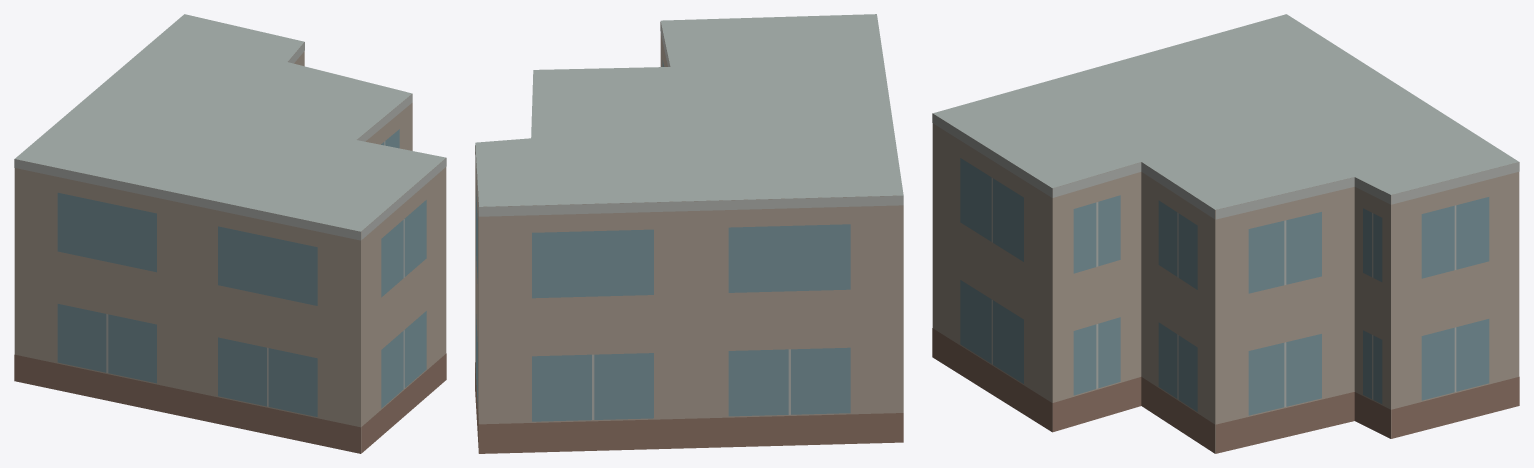
File: survey-upis-32489428.glb
3 renders of one model, left to right at view 1: azimuth 30°, elevation 25°; view 2: azimuth 150°, elevation 25°; view 3: azimuth 270°, elevation 25°, orthographic. The views are drawn at different scales.
Parts seen in each view (by area): view 1: survey-upis-32489428.tmp; view 2: survey-upis-32489428.tmp; view 3: survey-upis-32489428.tmp.
Part boxes in pixels (left/top/right/bottom): survey-upis-32489428.tmp: left=14, top=14, right=446, bottom=453; survey-upis-32489428.tmp: left=475, top=14, right=903, bottom=453; survey-upis-32489428.tmp: left=932, top=14, right=1519, bottom=453.
Bounding box in the file's own units: 10.52 × 6.1 × 13.31.
